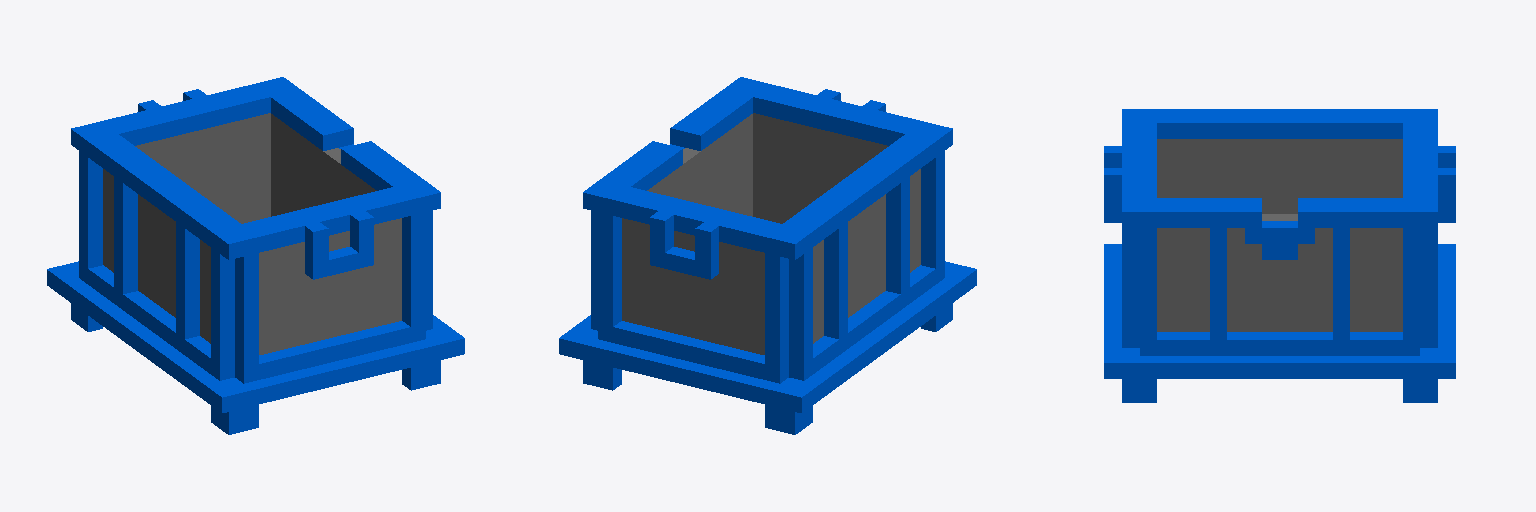
3 views of the same model, side by side, from view 1: azimuth 30°, elevation 25°; view 2: azimuth 150°, elevation 25°; view 3: azimuth 270°, elevation 25° (orthographic).
Parts seen in each view (by area): view 1: Matrix_6; view 2: Matrix_6; view 3: Matrix_6.
Boxes of the visible parts, <box> form: Matrix_6: <box>47,77,464,434</box>; Matrix_6: <box>559,77,976,434</box>; Matrix_6: <box>1104,109,1455,402</box>.
Bounding box in the file's own units: 16 × 12 × 20.
1 materials, 1 textured.